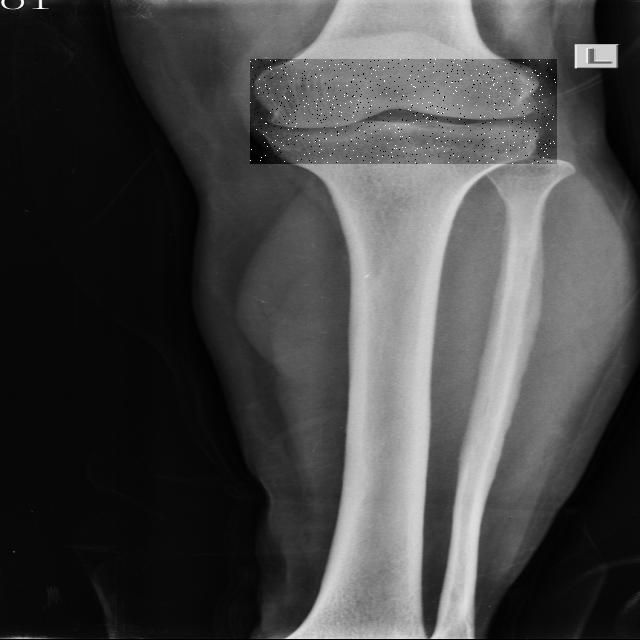normal: (250, 59, 557, 164)
